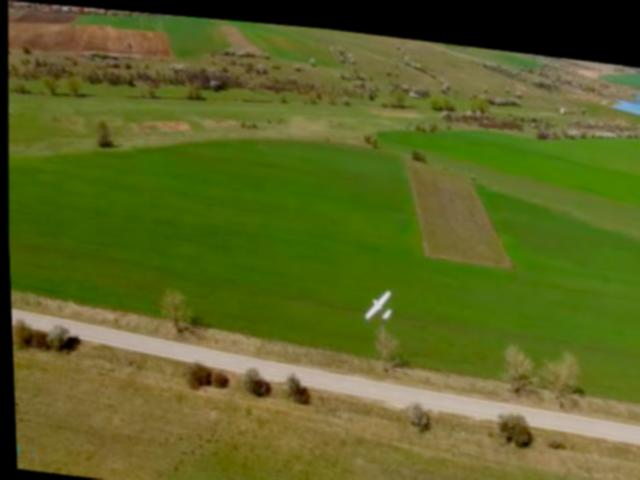uav: (357, 273, 399, 322)
